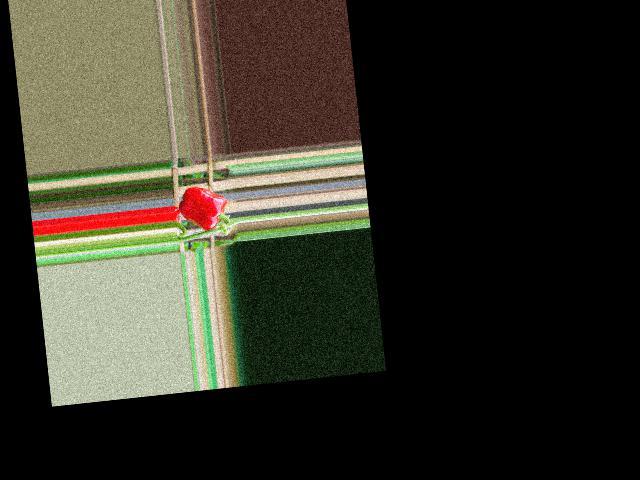bell_pepper: (177, 180, 230, 236)
